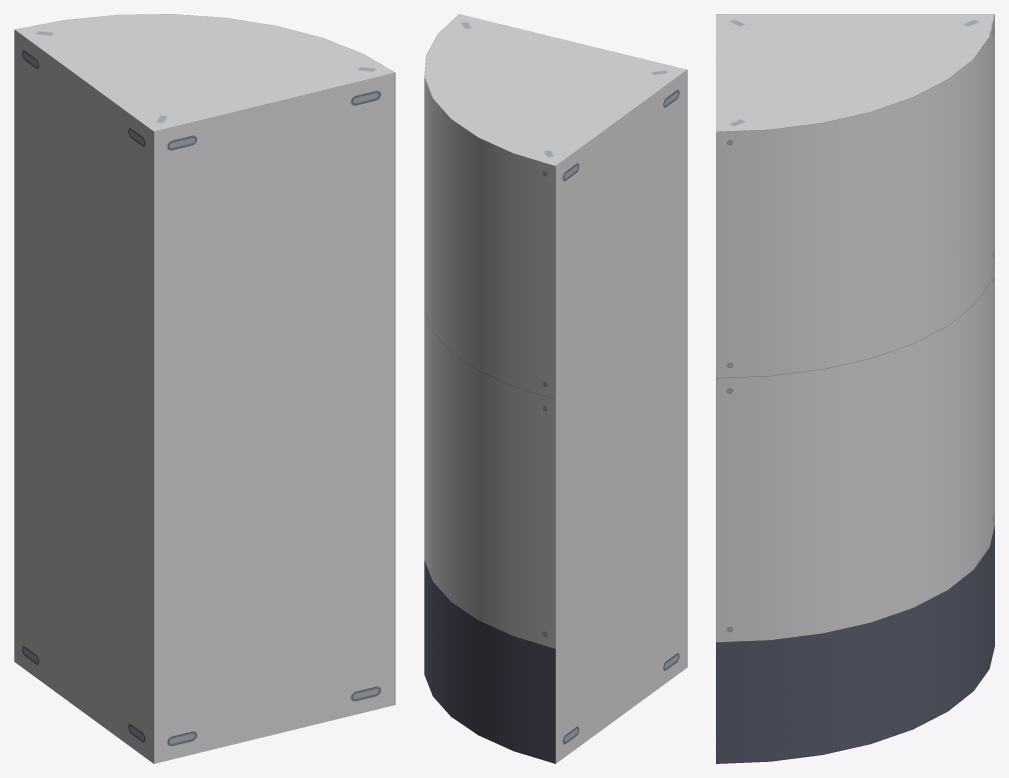
Rendered from Wall_Coin_Simple_02.FBX.
3 renders of one model, left to right at view 1: azimuth 30°, elevation 25°; view 2: azimuth 150°, elevation 25°; view 3: azimuth 270°, elevation 25°, orthographic. The views are drawn at different scales.
Visible parts, largest first — view 1: Wall_Coin_Simple_02; view 2: Wall_Coin_Simple_02; view 3: Wall_Coin_Simple_02.
Part boxes in pixels (x1,y1,x2,y2): Wall_Coin_Simple_02: (14, 14, 395, 763); Wall_Coin_Simple_02: (424, 14, 687, 763); Wall_Coin_Simple_02: (716, 14, 994, 763).
Size of the model in its own units: 2 by 5 by 2.
Materials: 2 (2 with a texture image).
